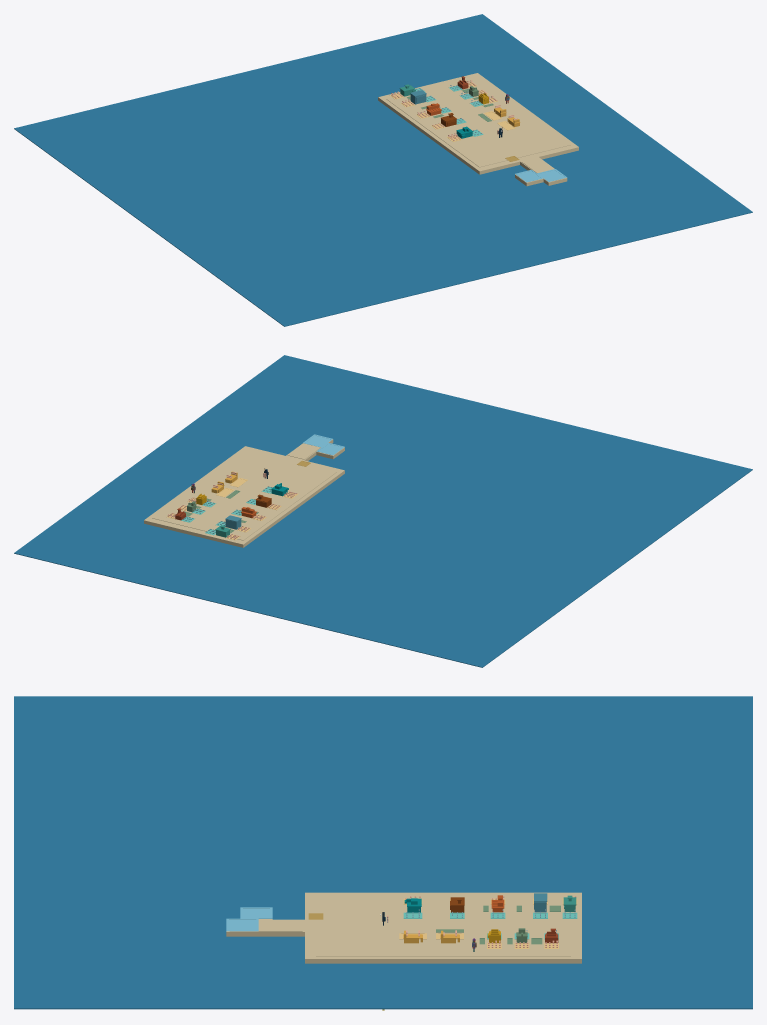
The model's file is northlight_harbor_blockout.glb.
The picture shows the model from 3 angles, top to bottom: view 1: azimuth 30°, elevation 25°; view 2: azimuth 150°, elevation 25°; view 3: azimuth 270°, elevation 25°; orthographic projection. The views are drawn at different scales.
Parts seen in each view (by area): view 1: Water, Ground_nl_land; view 2: Water, Ground_nl_land; view 3: Water, Ground_nl_land, Ground_nl_pier.
Part boxes in pixels (x1=…): Water: x1=14, y1=14, x2=752, y2=326; Ground_nl_land: x1=378, y1=73, x2=578, y2=174; Water: x1=14, y1=355, x2=752, y2=667; Ground_nl_land: x1=144, y1=446, x2=344, y2=547; Water: x1=14, y1=696, x2=752, y2=1009; Ground_nl_land: x1=305, y1=892, x2=581, y2=963; Ground_nl_pier: x1=226, y1=919, x2=305, y2=936.
Bounding box in the file's own units: 80 × 11.84 × 80.
